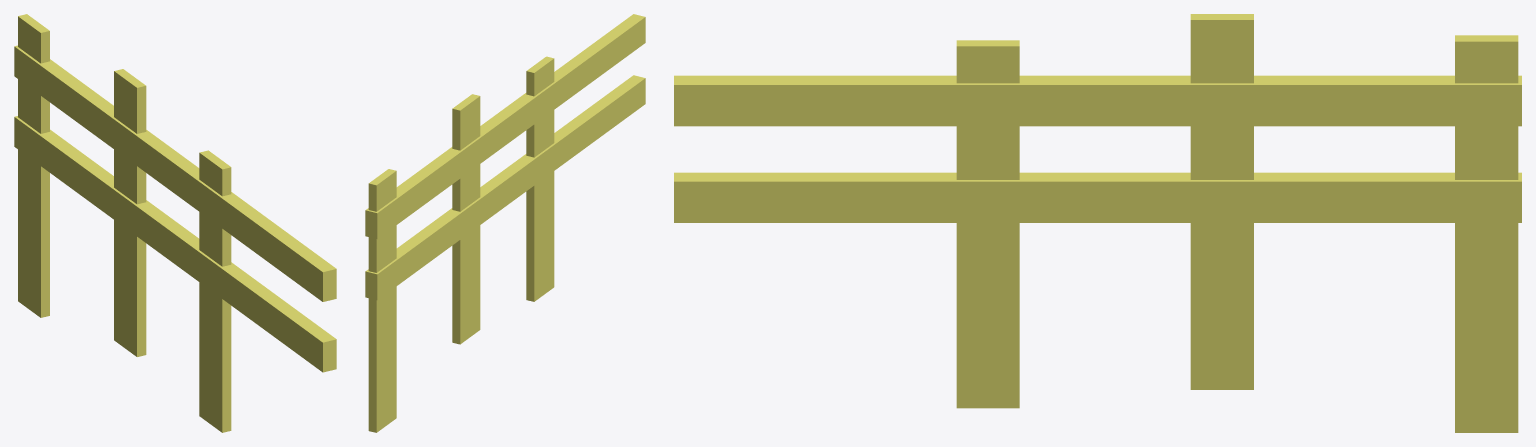
Rendered from fence.fbx.
The picture shows the model from 3 angles, left to right: view 1: azimuth 30°, elevation 25°; view 2: azimuth 150°, elevation 25°; view 3: azimuth 270°, elevation 25°; orthographic projection. The views are drawn at different scales.
Parts seen in each view (by area): view 1: Cube.004, Cube.005, Cube.001, Cube, Cube.002; view 2: Cube.004, Cube.005, Cube.001, Cube, Cube.002; view 3: Cube.004, Cube.005, Cube.001, Cube, Cube.002.
Part boxes in pixels (<box>): Cube.004: <box>14,45,336,301</box>; Cube.005: <box>14,116,336,372</box>; Cube.001: <box>18,14,49,317</box>; Cube: <box>114,69,146,356</box>; Cube.002: <box>199,150,231,432</box>; Cube.004: <box>365,14,645,239</box>; Cube.005: <box>365,75,645,300</box>; Cube.001: <box>368,169,396,432</box>; Cube: <box>452,94,480,344</box>; Cube.002: <box>526,56,554,301</box>; Cube.004: <box>674,75,1521,126</box>; Cube.005: <box>674,172,1521,222</box>; Cube.001: <box>1455,35,1518,432</box>; Cube: <box>1190,14,1253,389</box>; Cube.002: <box>956,40,1019,408</box>.
Bounding box in the file's own units: 17.28 × 358 × 667.
